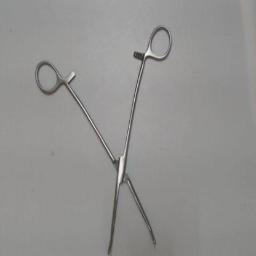Lahey Forceps: (28, 16, 176, 254)
